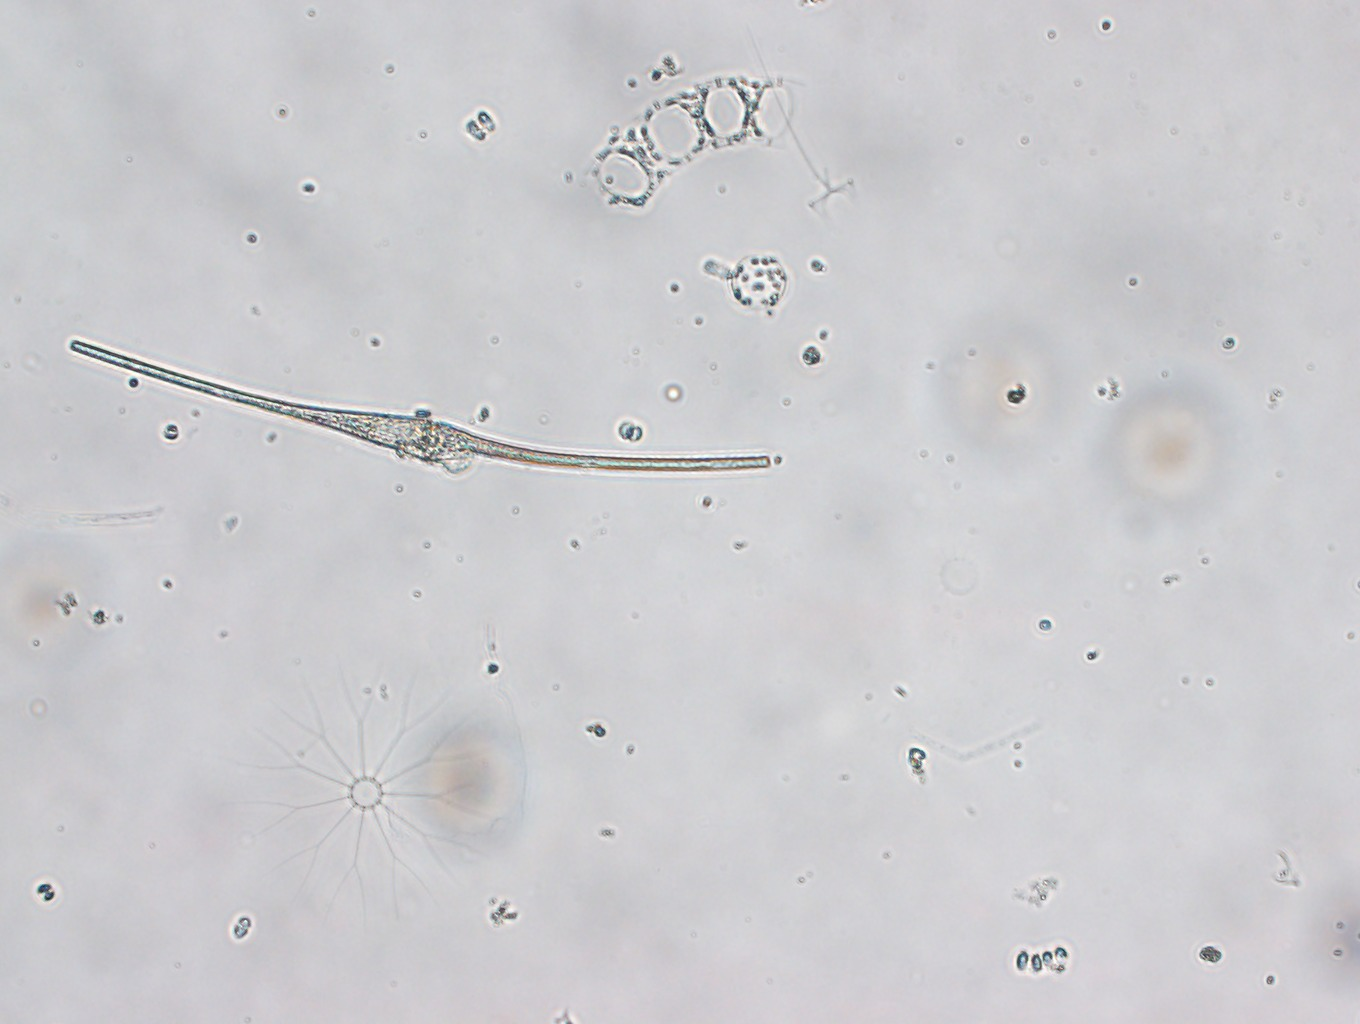bacteriastrum: (239, 669, 500, 916)
ceratium fusus: (66, 337, 775, 469)
eucampia: (585, 76, 807, 215)
